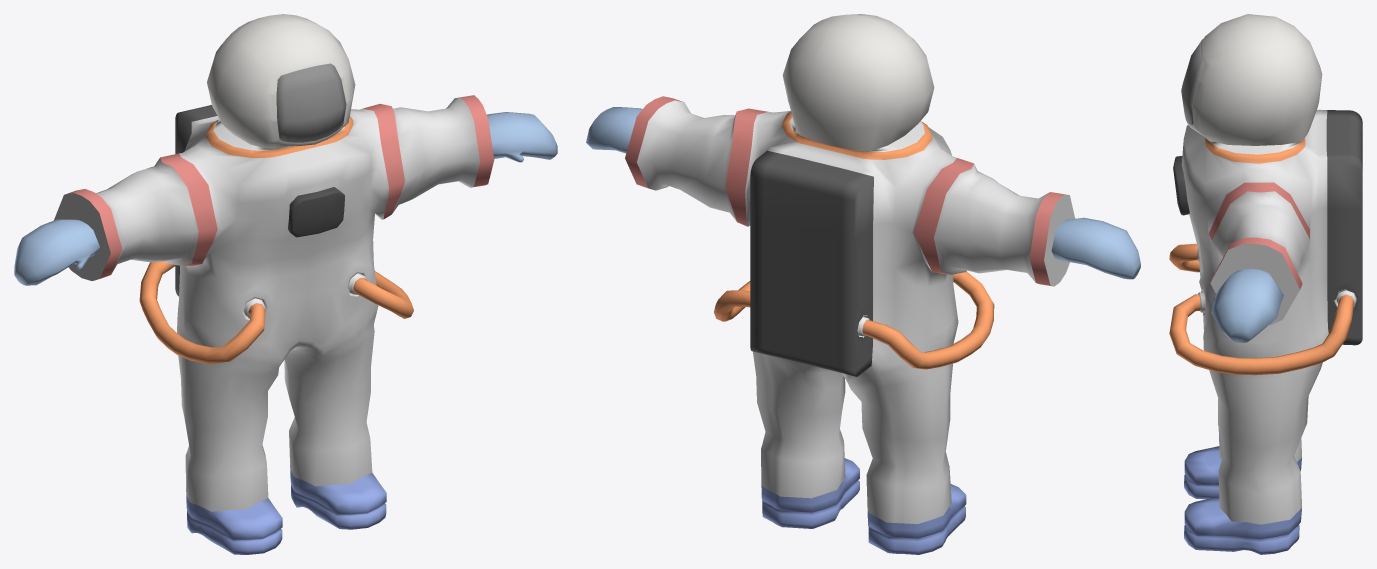
Rendered from astronunt_01.glb.
The picture shows the model from 3 angles, left to right: view 1: azimuth 30°, elevation 25°; view 2: azimuth 150°, elevation 25°; view 3: azimuth 270°, elevation 25°; orthographic projection. The views are drawn at different scales.
Parts seen in each view (by area): view 1: astronunt_01, helmet_01, monitor_01, airbag_01; view 2: astronunt_01, airbag_01; view 3: astronunt_01, airbag_01, helmet_01, monitor_01.
Part boxes in pixels (x1=…): astronunt_01: x1=14, y1=14, x2=557, y2=554; helmet_01: x1=276, y1=63, x2=346, y2=142; monitor_01: x1=288, y1=187, x2=344, y2=237; airbag_01: x1=175, y1=105, x2=217, y2=296; astronunt_01: x1=586, y1=14, x2=1140, y2=554; airbag_01: x1=750, y1=150, x2=873, y2=376; astronunt_01: x1=1169, y1=14, x2=1357, y2=554; airbag_01: x1=1326, y1=110, x2=1362, y2=345; helmet_01: x1=1181, y1=39, x2=1203, y2=124; monitor_01: x1=1173, y1=156, x2=1189, y2=215.
Bounding box in the file's own units: 17.56 × 15.42 × 5.49.
